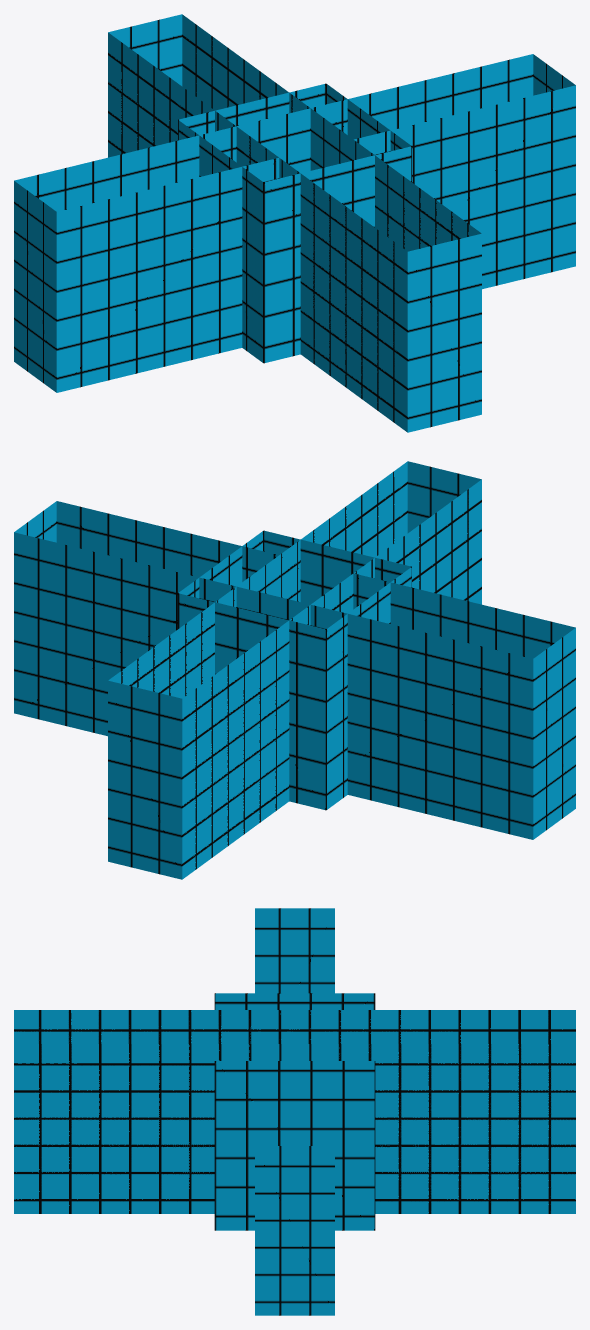
Rendered from Map.fbx.
3 renders of one model, top to bottom at view 1: azimuth 30°, elevation 25°; view 2: azimuth 150°, elevation 25°; view 3: azimuth 270°, elevation 25°, orthographic. The views are drawn at different scales.
Parts seen in each view (by area): view 1: Krest, Pryam, West, Kolon; view 2: Krest, Pryam, West, Kolon; view 3: Pryam, West, Krest, Kolon.
Part boxes in pixels (x1,y1,x2,y2): Krest: (14,16,310,392); Pryam: (108,14,481,432); West: (236,54,575,431); Kolon: (178,83,411,363); Krest: (108,573,575,877); Pryam: (108,461,481,879); West: (14,463,481,736); Kolon: (178,530,411,810); Pryam: (14,1010,575,1213); West: (14,1010,334,1315); Krest: (255,908,575,1213); Kolon: (214,993,375,1230).
Size of the model in its own units: 1050 by 350 by 1050.
